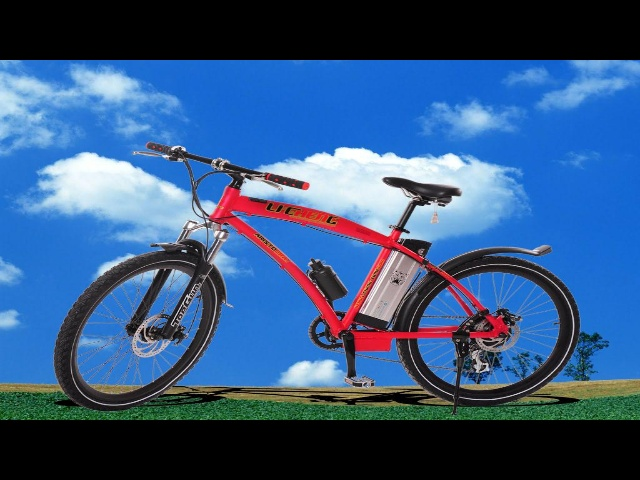bike: (42, 137, 589, 419)
